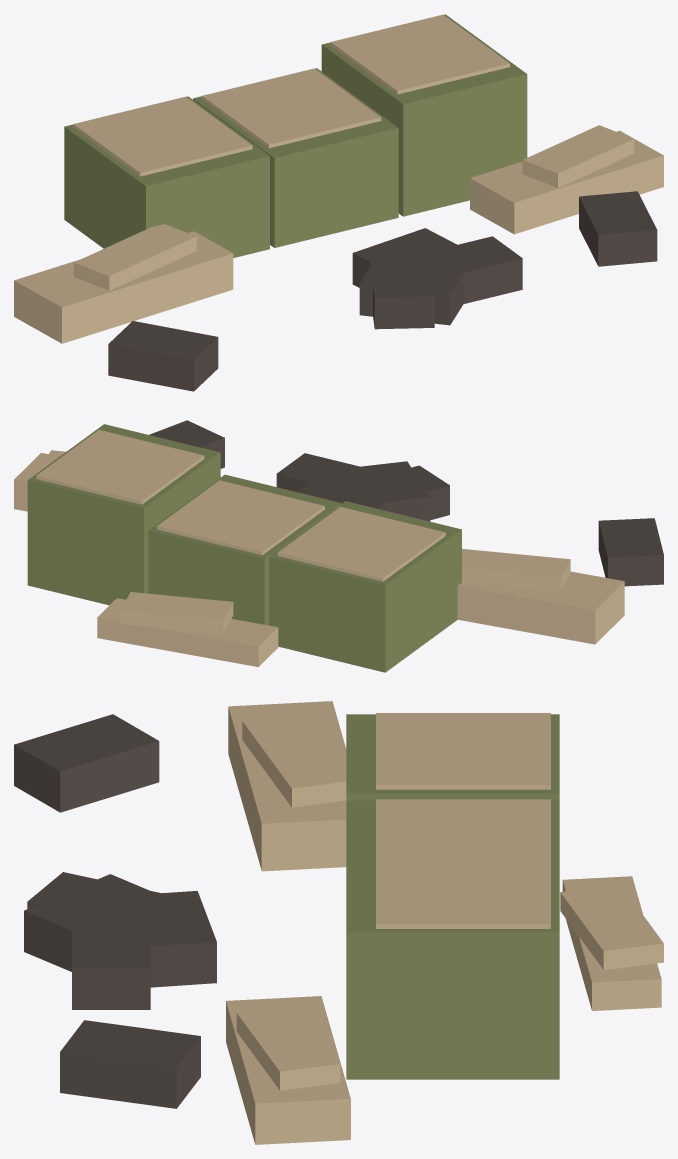
File: SM_HescoCorto3_v0_MallaLimpia_e2_MuyDanado_LOD1.fbx
3 renders of one model, top to bottom at view 1: azimuth 30°, elevation 25°; view 2: azimuth 150°, elevation 25°; view 3: azimuth 270°, elevation 25°, orthographic. The views are drawn at different scales.
Visible parts, largest first — view 1: SM_hesco_piezas_v82_LOD1; view 2: SM_hesco_piezas_v82_LOD1; view 3: SM_hesco_piezas_v82_LOD1.
Part boxes in pixels (box(x1,y1,x2,y2)): SM_hesco_piezas_v82_LOD1: box(14, 14, 663, 391); SM_hesco_piezas_v82_LOD1: box(14, 420, 663, 672); SM_hesco_piezas_v82_LOD1: box(14, 701, 663, 1144).
Bounding box in the file's own units: 5.36 × 0.9578 × 3.71.
